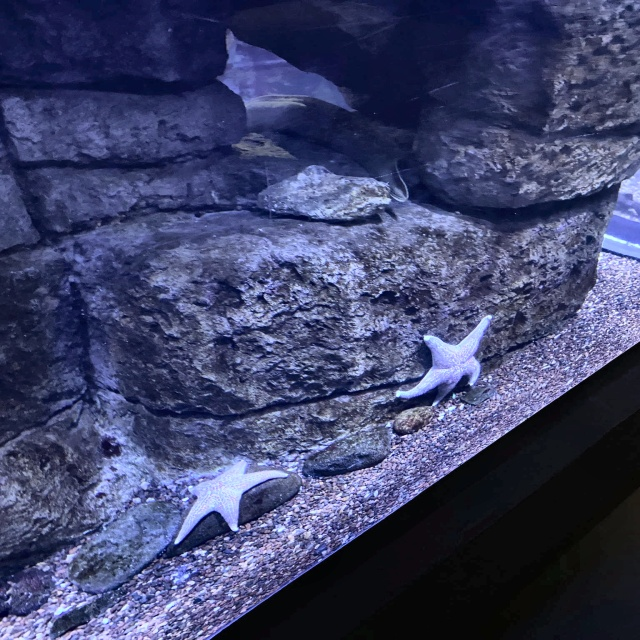starfish: (175, 461, 288, 543), (396, 314, 492, 405)
